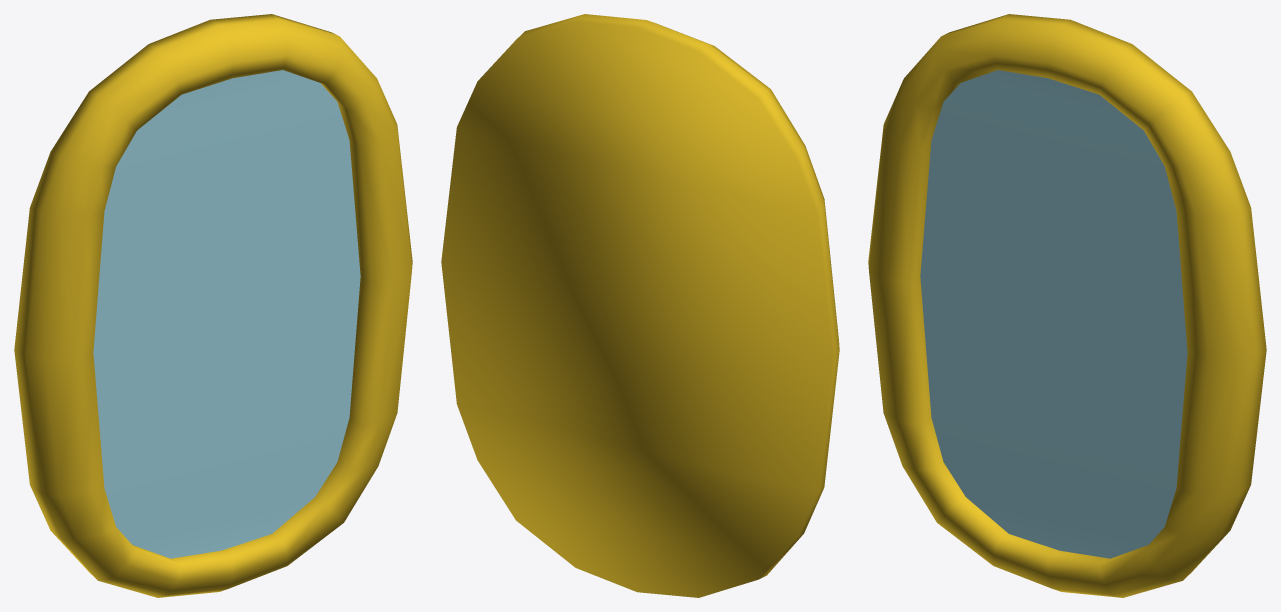
The model's file is prop_mirror_small.fbx.
3 renders of one model, left to right at view 1: azimuth 30°, elevation 25°; view 2: azimuth 150°, elevation 25°; view 3: azimuth 330°, elevation 25°, orthographic.
Visible parts, largest first — view 1: Roundcube.003; view 2: Roundcube.003; view 3: Roundcube.003.
Boxes of the visible parts, x1,y1,x2,y2 form: Roundcube.003: (14,14,412,597); Roundcube.003: (441,14,839,597); Roundcube.003: (868,14,1266,597).
Size of the model in its own units: 60.44 by 83.43 by 6.08.
